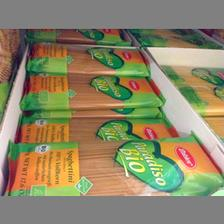Nudeln: (6, 134, 222, 194), (20, 69, 158, 107), (24, 36, 148, 76), (13, 113, 176, 137)
